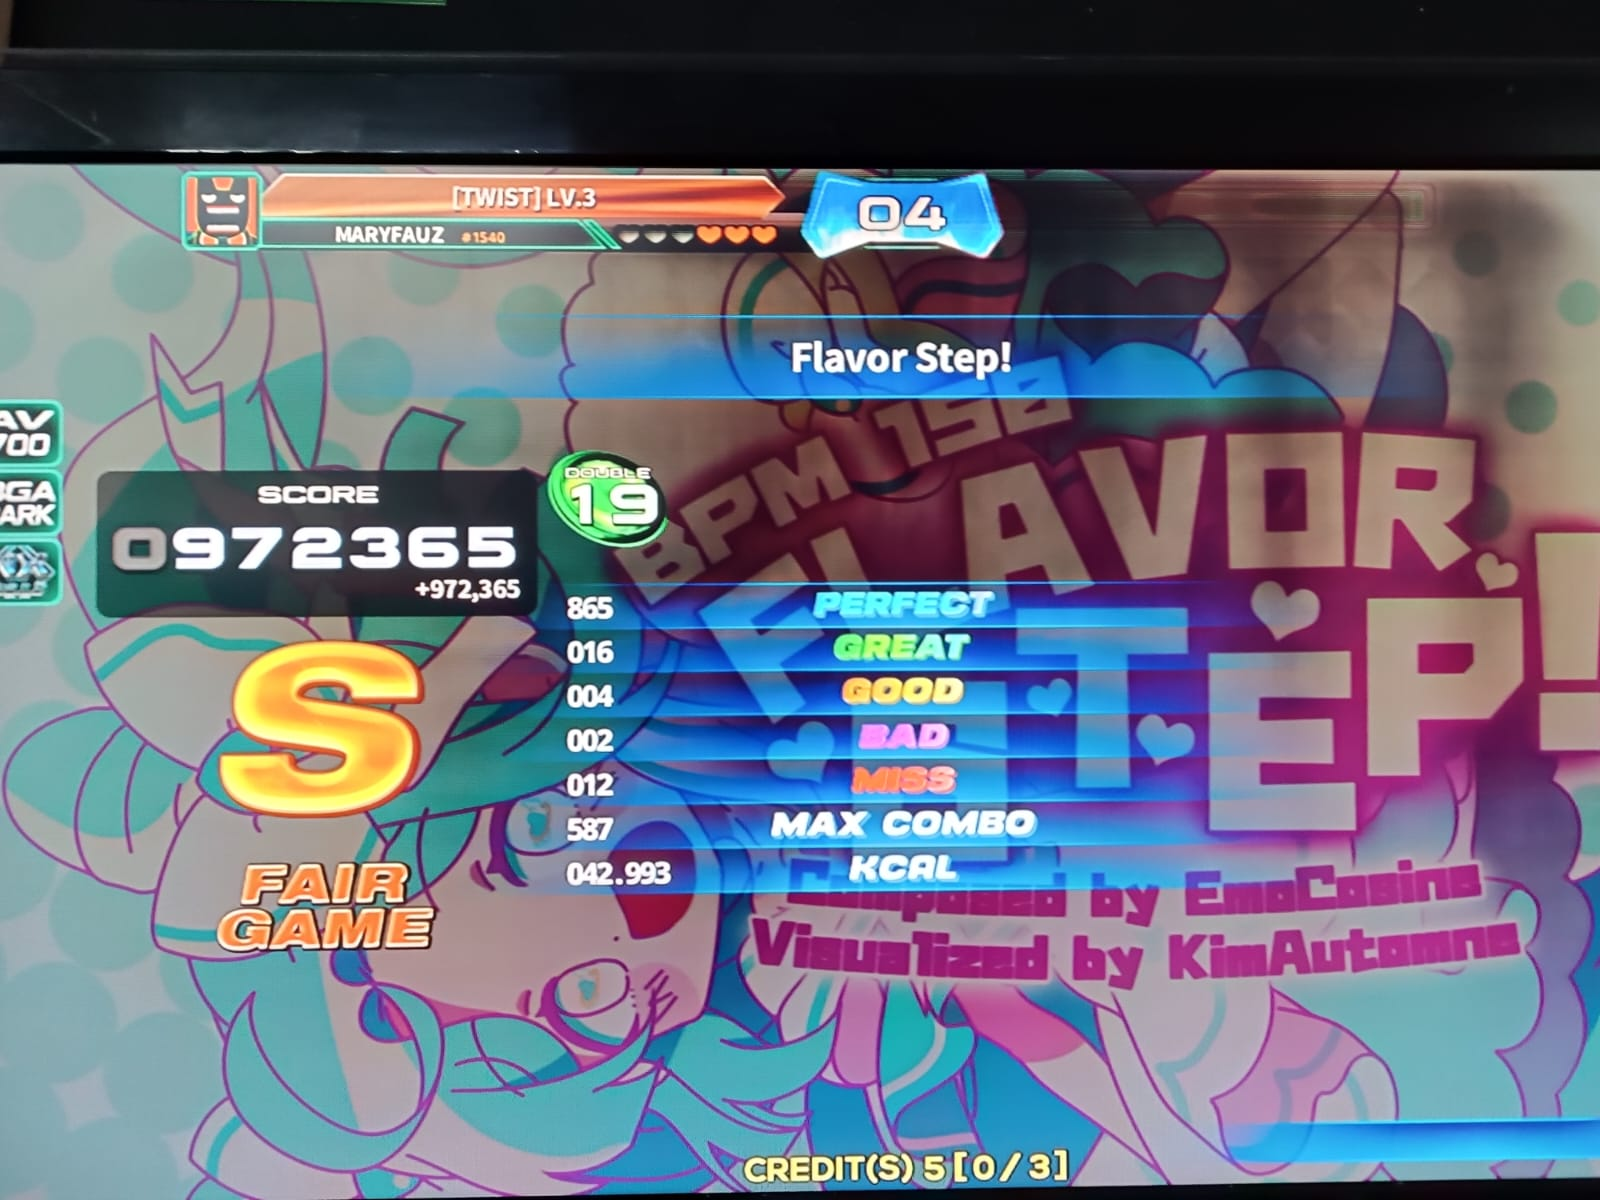difficulty: (544, 449, 674, 552)
fullscore: (0, 87, 1498, 1200)
rank: (214, 632, 425, 821)
score: (89, 479, 554, 582)
song_name: (540, 300, 1359, 397)
